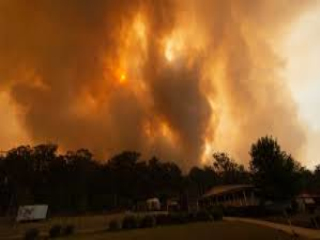fire: (103, 18, 158, 95), (200, 131, 217, 163)
smoke: (6, 4, 142, 154), (168, 8, 301, 132)
